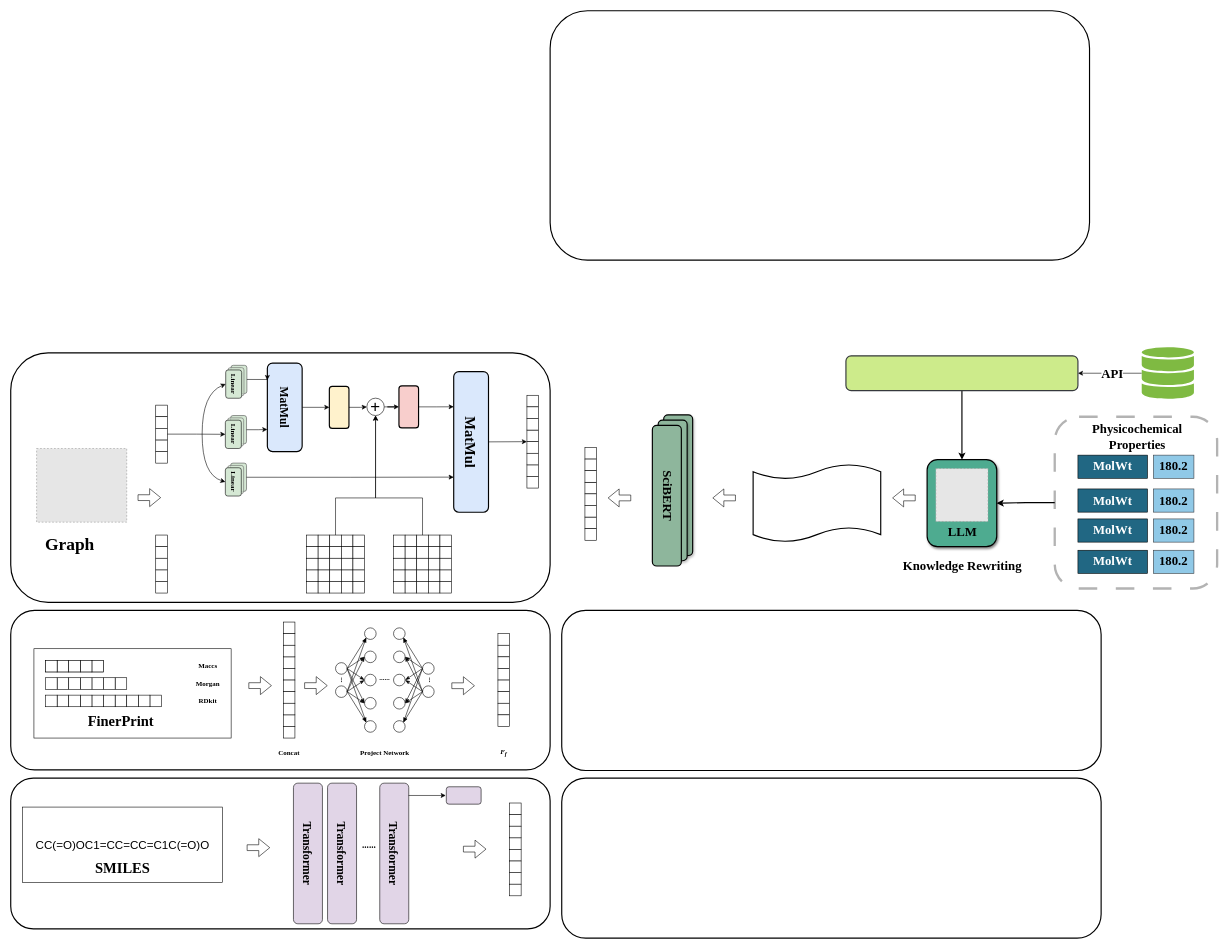
The diagram is 1228 pixels wide and 948 high, and some of its shapes have lost their labels. Grey dashed boxes stand in for pictures. Each missing label, with the centre of its shape:
CLS: the point at 463,795
Scale: the point at 339,407
SoftMax: the point at 408,406
Text Data: the point at 961,373
this is a molucelr with dk klkk like sfjk dfejhj dejhjh 999 kjkhk: the point at 816,502
